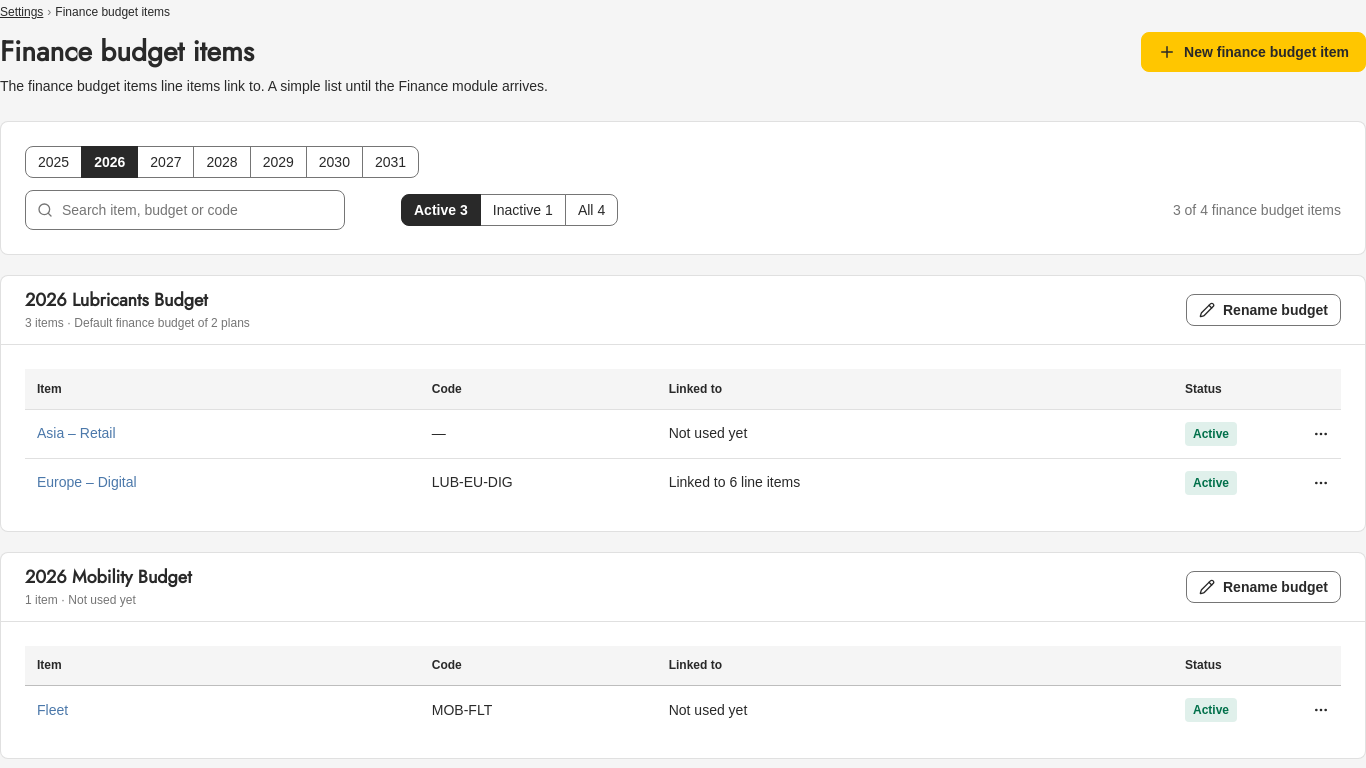
Test: FinanceBudgetItemsPage: details (US5 scenario 4) › shows the line items linked to it and the plans using its budget
What coordinates should you click on to do the following:
click the button "Europe – Digital"
I would click on:
 (87, 482)
Its box is [37, 472, 137, 493].
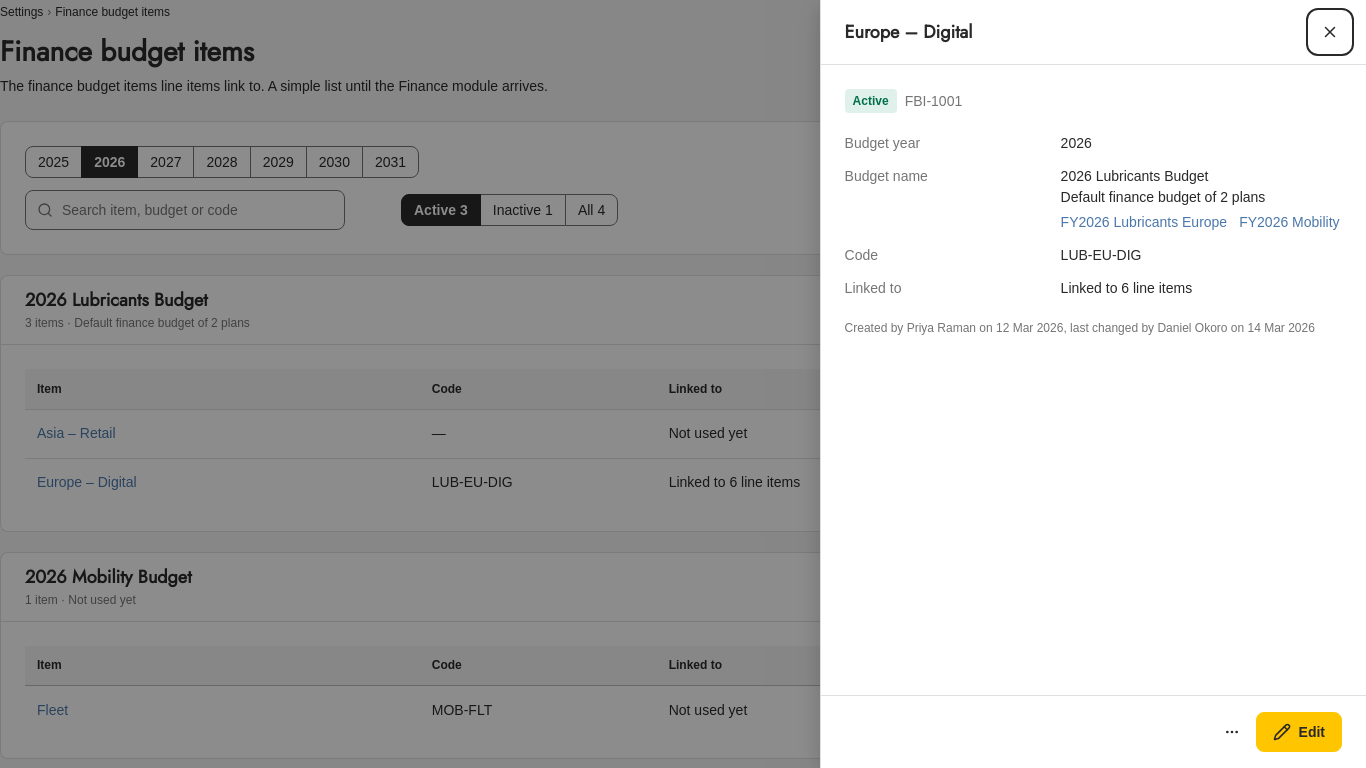
expect the dialog "Europe – Digital" shows "2026 Lubricants Budget": met, box [1061, 168, 1208, 184]
expect the dialog "Europe – Digital" shows "Default finance budget of 2 plans": met, box [1061, 189, 1265, 205]
expect the dialog "Europe – Digital" shows "Linked to 6 line items": met, box [1061, 280, 1192, 296]
